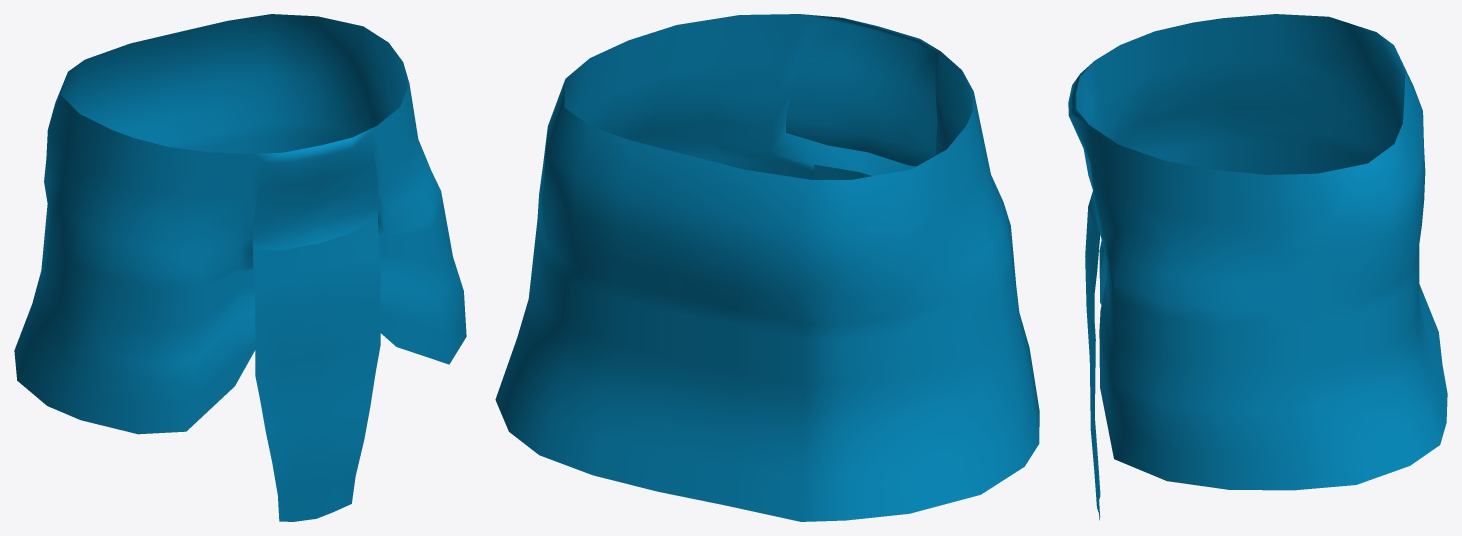
File: Pants.fbx
3 renders of one model, left to right at view 1: azimuth 30°, elevation 25°; view 2: azimuth 150°, elevation 25°; view 3: azimuth 270°, elevation 25°, orthographic. The views are drawn at different scales.
Visible parts, largest first — view 1: Pants; view 2: Pants; view 3: Pants.
Boxes of the visible parts, x1=… form: Pants: x1=14, y1=14, x2=466, y2=521; Pants: x1=495, y1=14, x2=1039, y2=521; Pants: x1=1068, y1=14, x2=1447, y2=520.
Size of the model in its own units: 2.12 by 1.92 by 1.59.
